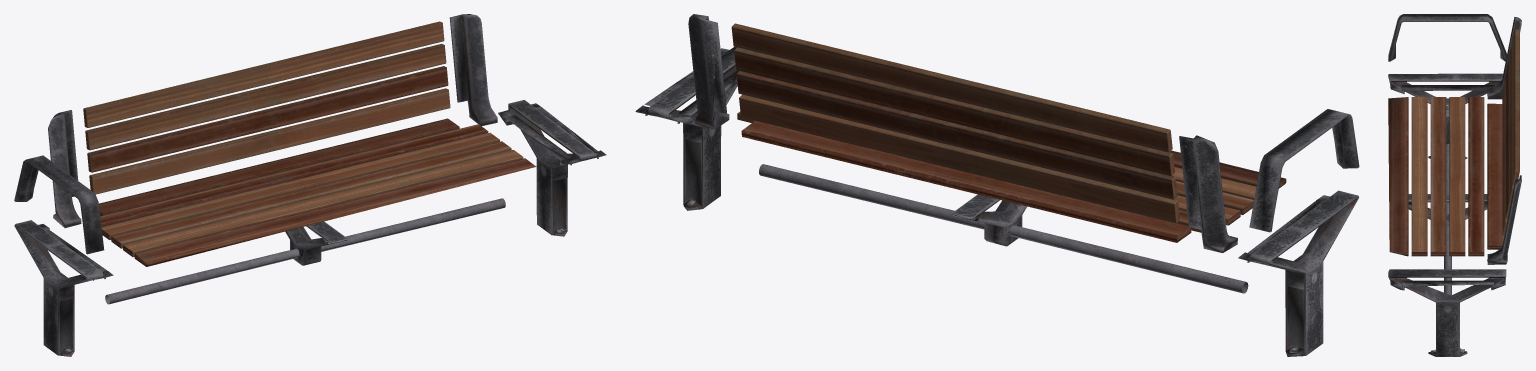
The model's file is street_bench.glb.
3 renders of one model, left to right at view 1: azimuth 30°, elevation 25°; view 2: azimuth 150°, elevation 25°; view 3: azimuth 270°, elevation 25°, orthographic. The views are drawn at different scales.
Visible parts, largest first — view 1: seat, crossbar, legs_double; view 2: seat, crossbar, legs_double; view 3: seat, legs_double, crossbar.
Part boxes in pixels (x1,y1,x2,y2): seat: (83,21,536,266); crossbar: (14,14,505,304); legs_double: (14,100,606,356); seat: (731,23,1286,242); crossbar: (688,14,1359,293); legs_double: (635,46,1358,356); seat: (1388,29,1519,256); legs_double: (1388,73,1506,356); crossbar: (1388,14,1521,295).
Size of the model in its own units: 2.45 by 0.8648 by 0.6705.
3 materials, 3 textured.
